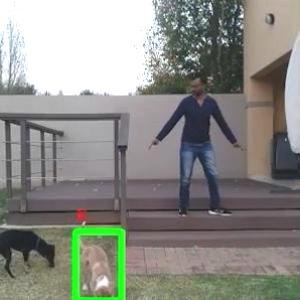land: (154, 70, 237, 224)
